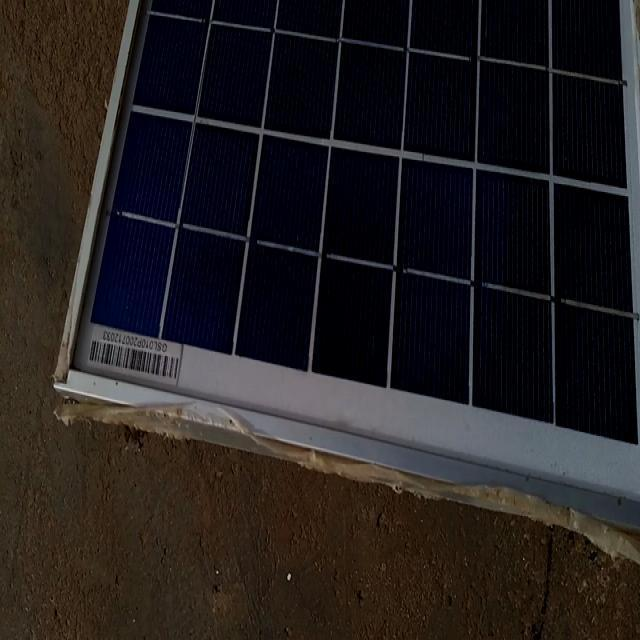Normal Solar Panel: (55, 0, 640, 531)
